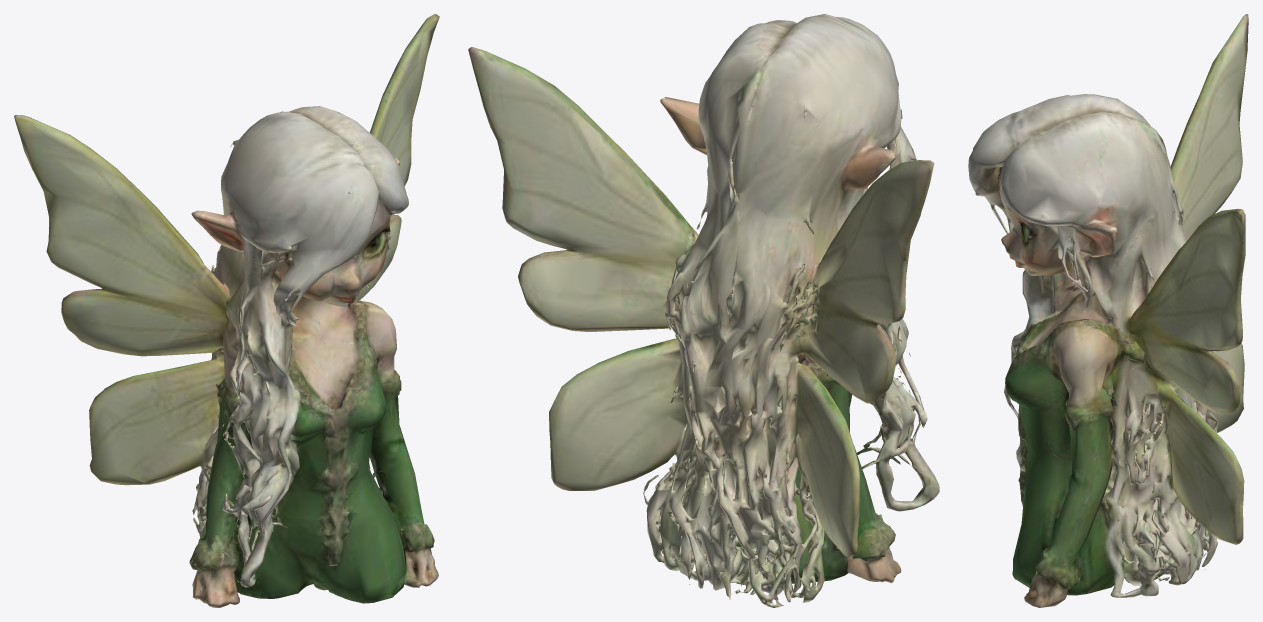
3 views of the same model, side by side, from view 1: azimuth 30°, elevation 25°; view 2: azimuth 150°, elevation 25°; view 3: azimuth 270°, elevation 25° (orthographic). The views are drawn at different scales.
Bounding box in the file's own units: 1.89 × 2 × 1.12.
Materials: 1 (1 with a texture image).
